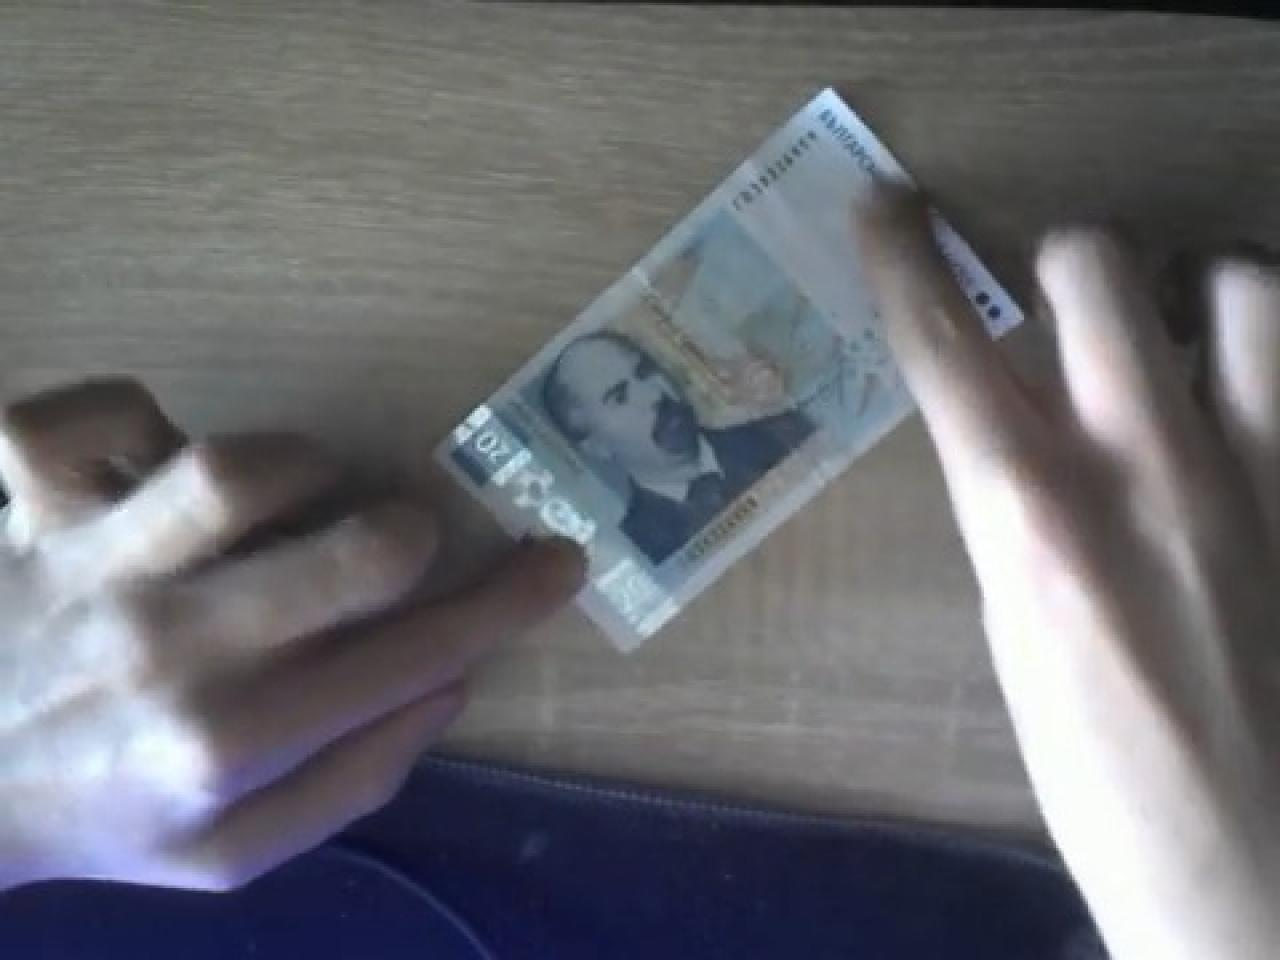20leva: (429, 89, 1024, 658)
